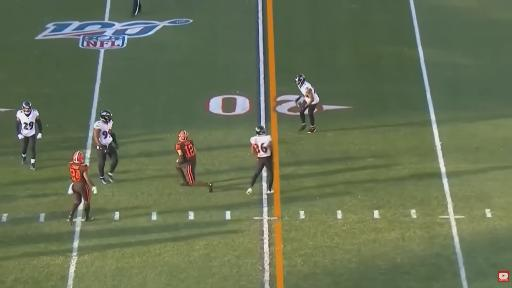Helmet: (100, 110, 112, 123), (72, 152, 83, 163), (22, 101, 31, 114), (178, 131, 189, 141), (295, 75, 305, 86), (255, 126, 265, 135)
Jersey: (16, 110, 39, 136), (298, 81, 319, 104), (94, 121, 113, 146), (250, 135, 271, 157), (175, 140, 196, 161), (69, 162, 88, 182)
Player: (175, 131, 212, 192), (69, 152, 96, 225), (16, 102, 42, 170), (247, 126, 273, 194), (94, 110, 118, 183), (295, 75, 319, 133)
